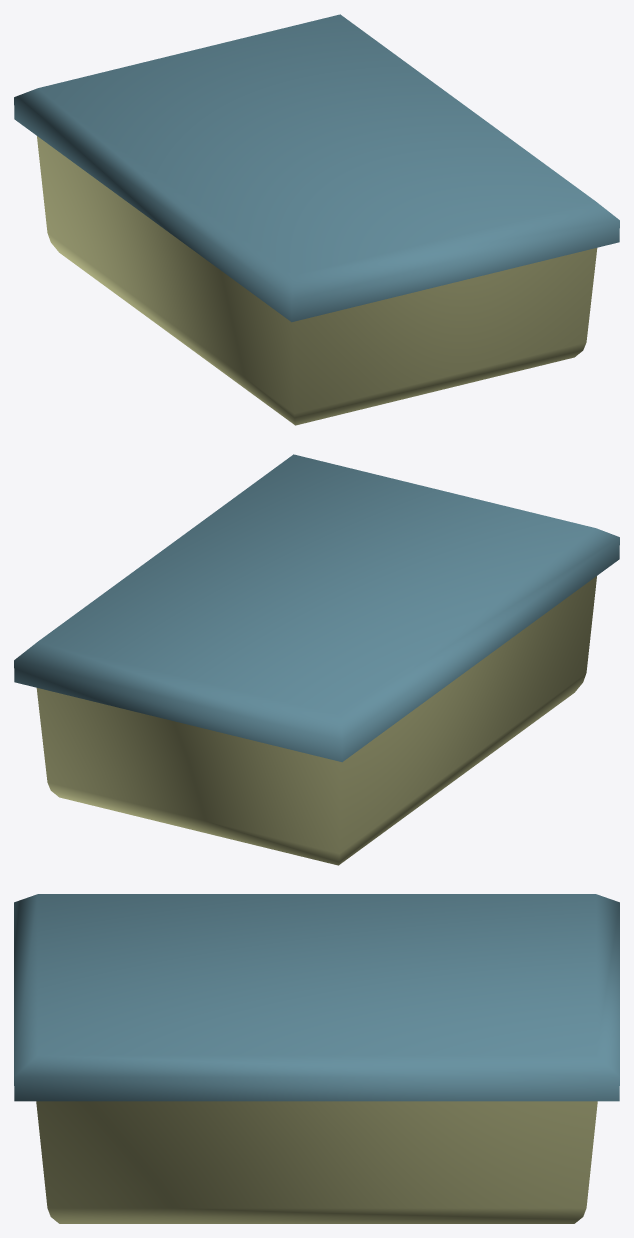
File: container.fbx
The picture shows the model from 3 angles, top to bottom: view 1: azimuth 30°, elevation 25°; view 2: azimuth 150°, elevation 25°; view 3: azimuth 270°, elevation 25°; orthographic projection. The views are drawn at different scales.
Parts seen in each view (by area): view 1: Container; view 2: Container; view 3: Container.
Part boxes in pixels (left/top/right/bottom): Container: left=14, top=14, right=619, bottom=425; Container: left=14, top=454, right=619, bottom=865; Container: left=14, top=894, right=619, bottom=1223.
Bounding box in the file's own units: 7.19 × 10.53 × 3.35.
